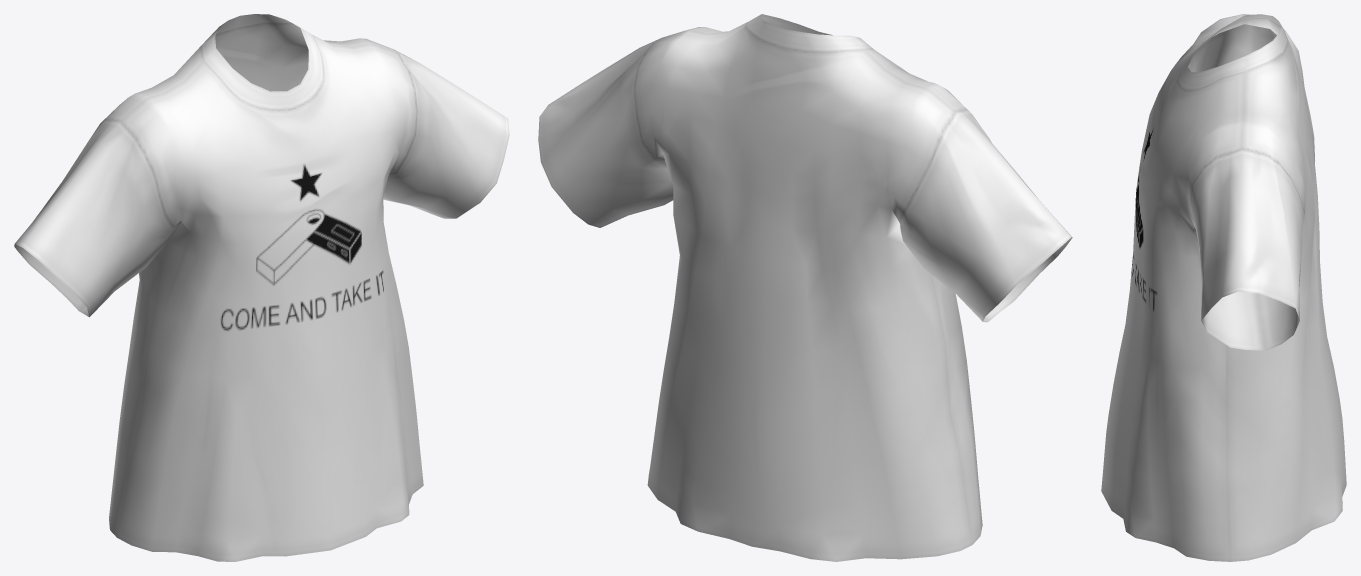
Rendered from m3me_tshirt-white.glb.
3 views of the same model, side by side, from view 1: azimuth 30°, elevation 25°; view 2: azimuth 150°, elevation 25°; view 3: azimuth 270°, elevation 25° (orthographic). The views are drawn at different scales.
Parts seen in each view (by area): view 1: m3me-white; view 2: m3me-white; view 3: m3me-white.
Part boxes in pixels (x1=…): m3me-white: x1=14, y1=14, x2=509, y2=561; m3me-white: x1=538, y1=14, x2=1072, y2=561; m3me-white: x1=1101, y1=14, x2=1346, y2=561.
Size of the model in its own units: 0.7679 by 0.704 by 0.3368.
Materials: 1 (1 with a texture image).
